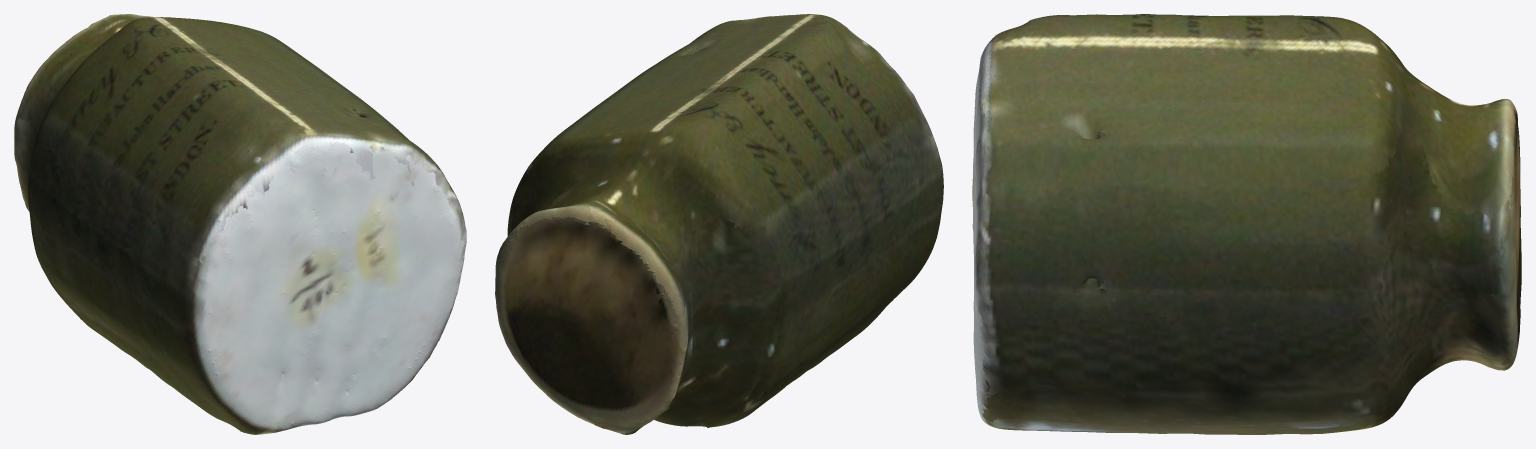
Rendered from model_Snuff Jar - Camden_20180418_183433260.obj.
3 views of the same model, side by side, from view 1: azimuth 30°, elevation 25°; view 2: azimuth 150°, elevation 25°; view 3: azimuth 270°, elevation 25° (orthographic). The views are drawn at different scales.
Size of the model in its own units: 50.33 by 50.11 by 69.35.
Materials: 1 (1 with a texture image).
